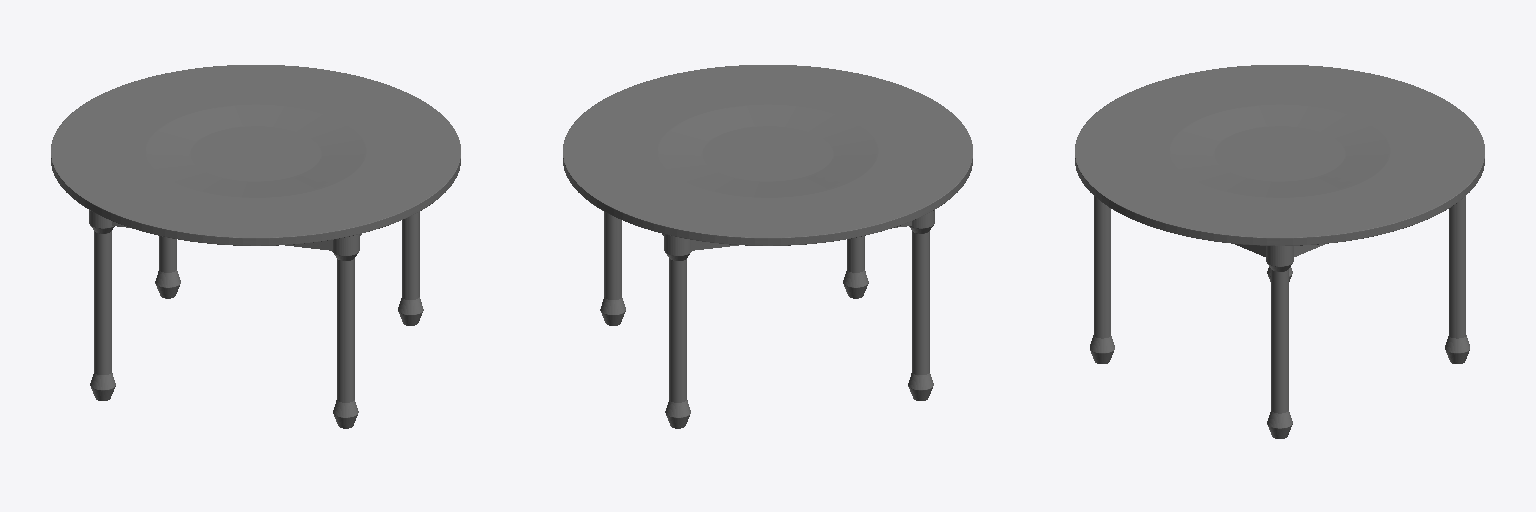
File: table.obj
3 views of the same model, side by side, from view 1: azimuth 30°, elevation 25°; view 2: azimuth 150°, elevation 25°; view 3: azimuth 270°, elevation 25° (orthographic).
Visible parts, largest first — view 1: Table_Circle.004, Leg_Cylinder.001; view 2: Table_Circle.004, Leg_Cylinder.001; view 3: Table_Circle.004, Leg_Cylinder.001.
Boxes of the visible parts, <box> form: Table_Circle.004: <box>51,65,460,245</box>; Leg_Cylinder.001: <box>89,210,423,428</box>; Table_Circle.004: <box>563,65,972,245</box>; Leg_Cylinder.001: <box>600,210,934,428</box>; Table_Circle.004: <box>1075,65,1484,245</box>; Leg_Cylinder.001: <box>1090,196,1469,438</box>.
Size of the model in its own units: 2.59 by 1.46 by 2.59.